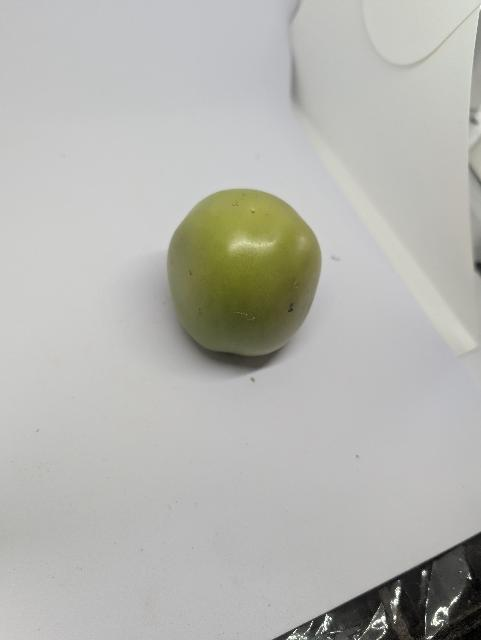green: (144, 175, 347, 387)
